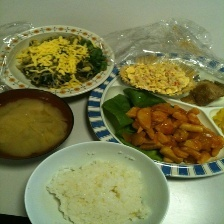rice: (43, 158, 155, 224)
